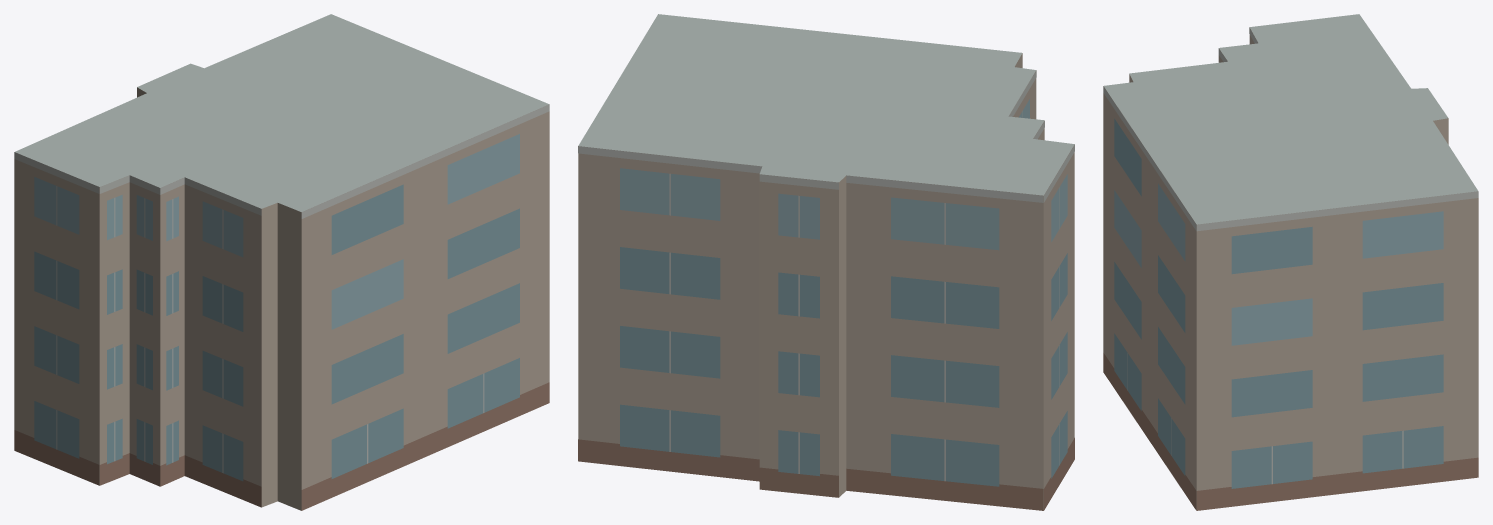
Rendered from survey-upis-32719739.glb.
3 renders of one model, left to right at view 1: azimuth 30°, elevation 25°; view 2: azimuth 150°, elevation 25°; view 3: azimuth 270°, elevation 25°, orthographic. The views are drawn at different scales.
Parts seen in each view (by area): view 1: survey-upis-32719739.tmp; view 2: survey-upis-32719739.tmp; view 3: survey-upis-32719739.tmp.
Part boxes in pixels (x1=…): survey-upis-32719739.tmp: x1=14, y1=14, x2=549, y2=510; survey-upis-32719739.tmp: x1=578, y1=14, x2=1074, y2=510; survey-upis-32719739.tmp: x1=1103, y1=14, x2=1478, y2=510.
Bounding box in the file's own units: 16.42 × 10.4 × 12.36.
